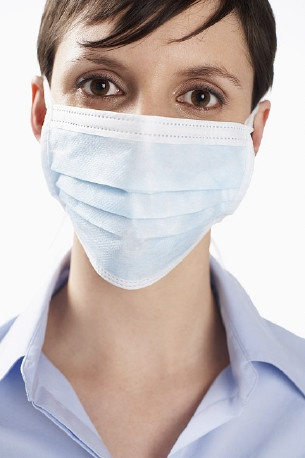Mask: (35, 49, 265, 278)
